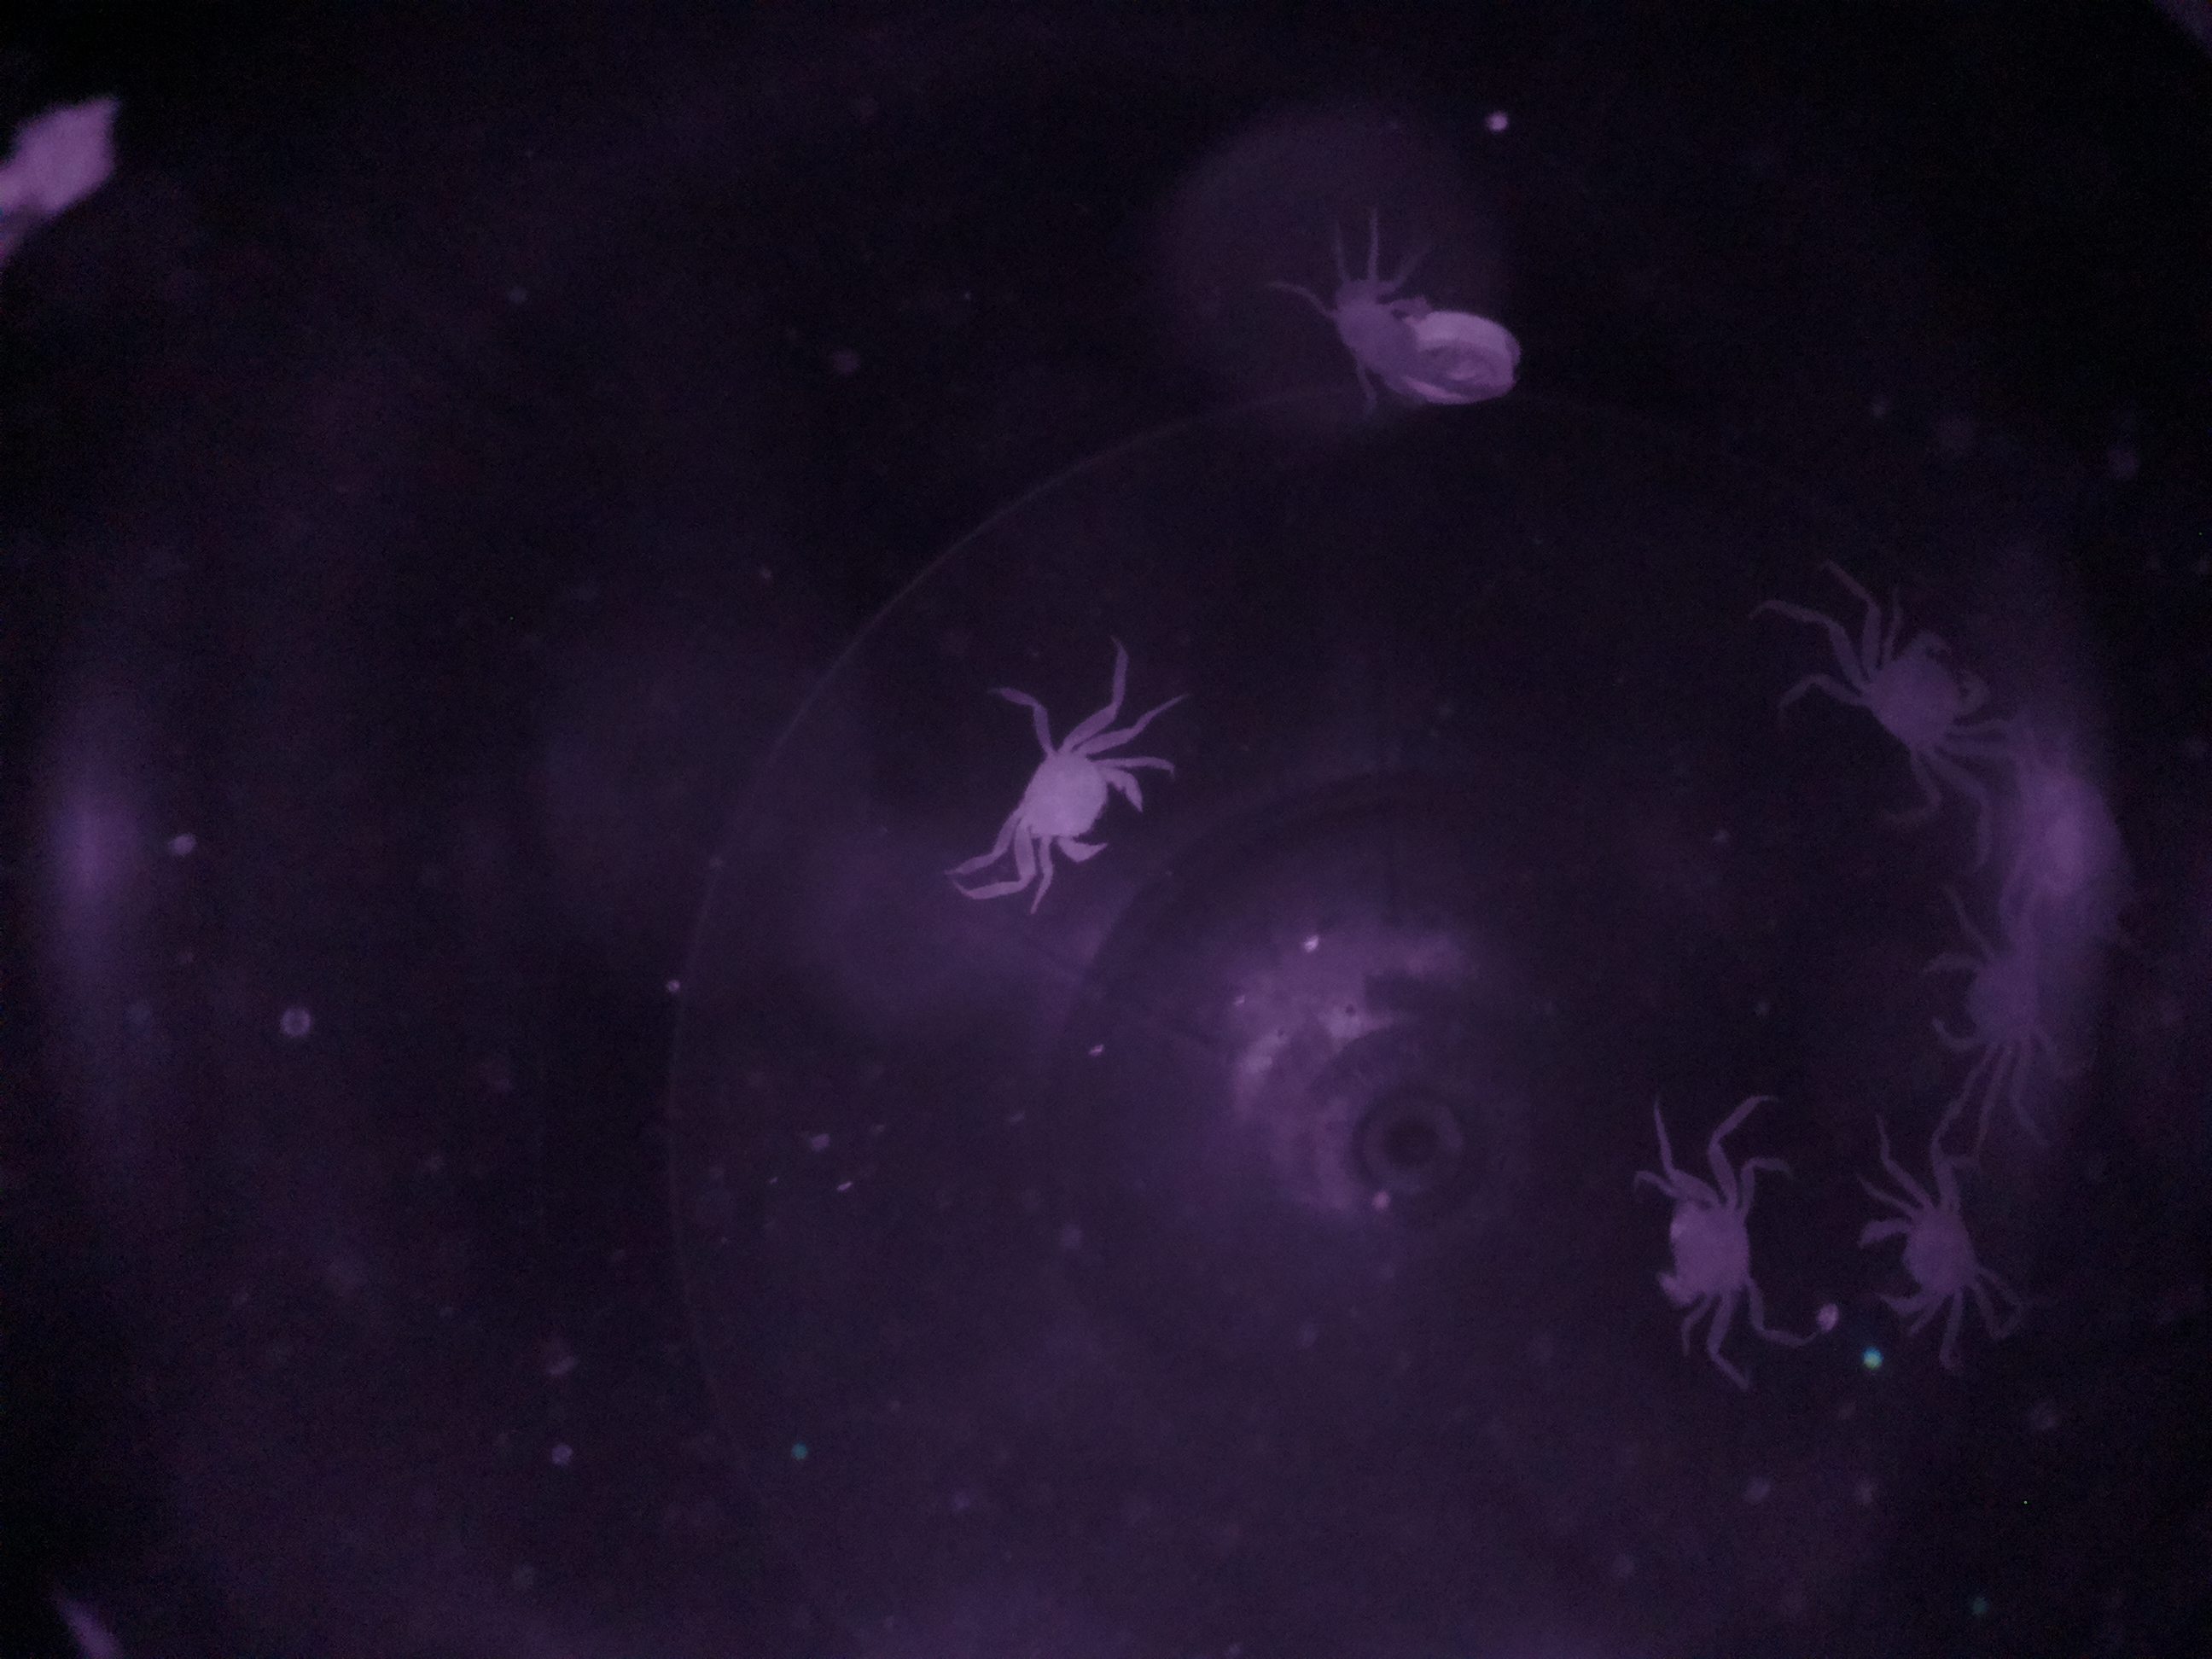Crab: (961, 664, 1176, 913), (1806, 610, 2015, 803), (1843, 1148, 2008, 1368), (1644, 1112, 1773, 1349)
